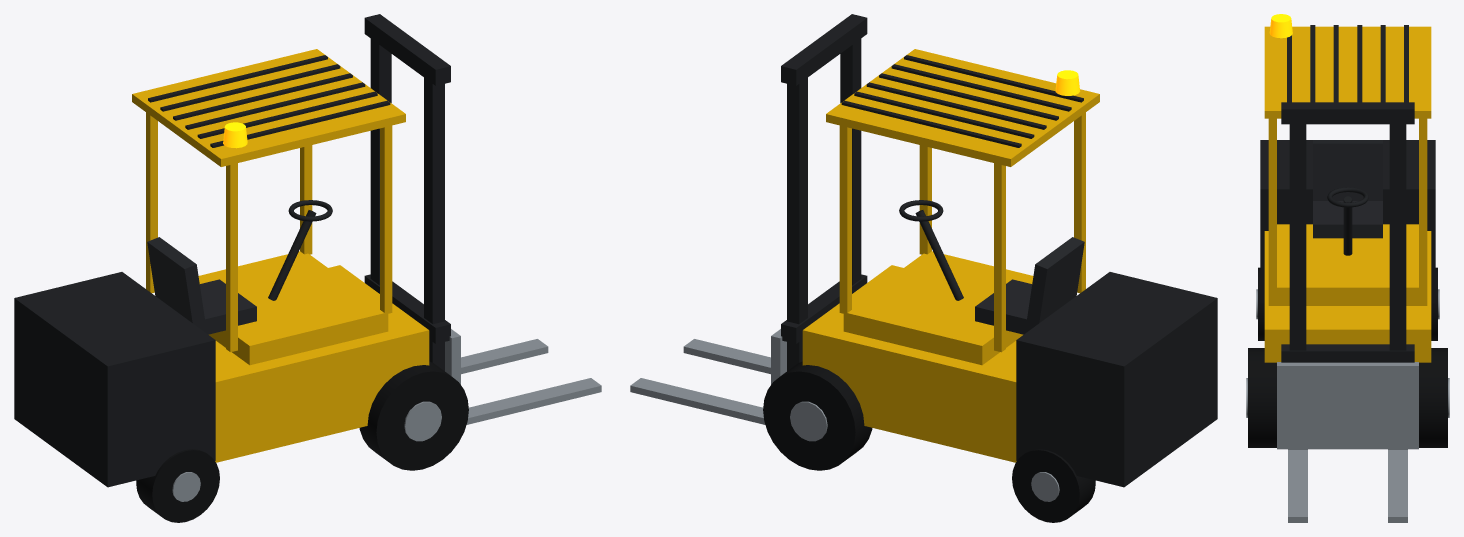
File: forklift.glb
3 renders of one model, left to right at view 1: azimuth 30°, elevation 25°; view 2: azimuth 150°, elevation 25°; view 3: azimuth 270°, elevation 25°, orthographic. The views are drawn at different scales.
Parts seen in each view (by area): view 1: Asset; view 2: Asset; view 3: Asset.
Part boxes in pixels (bbox=[...]): Asset: bbox=[14, 14, 601, 522]; Asset: bbox=[630, 14, 1217, 522]; Asset: bbox=[1246, 14, 1449, 522].
Size of the model in its own units: 3.3 by 2.35 by 1.22.
